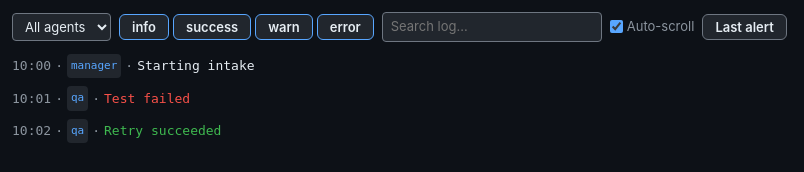
Test case: ActivityLog › filters by level toggles
Click the button with test id "log-level-error". click: (345, 27)
box: [317,14,374,40]
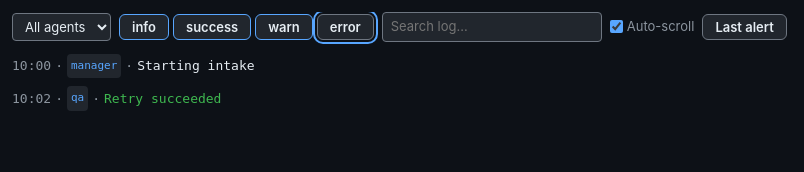
Check: the text "Starting intake" is shown, box [137,58,255,73]
Check: the text "Test failed" is gone
